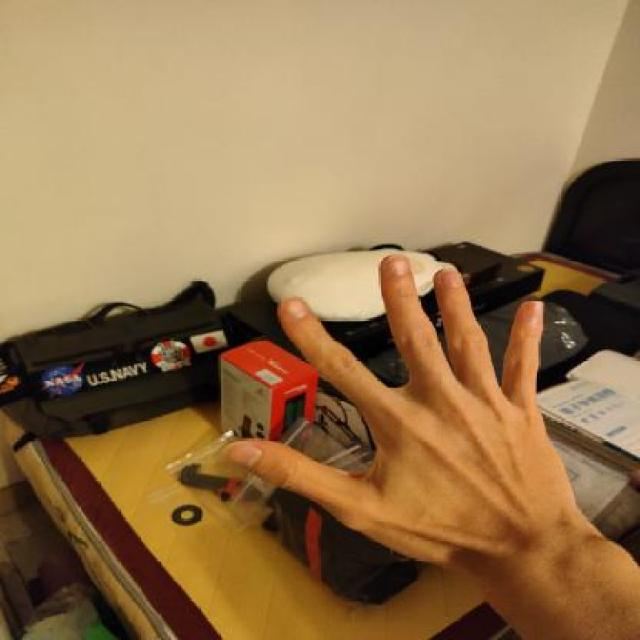bare_hand: (196, 238, 598, 590)
